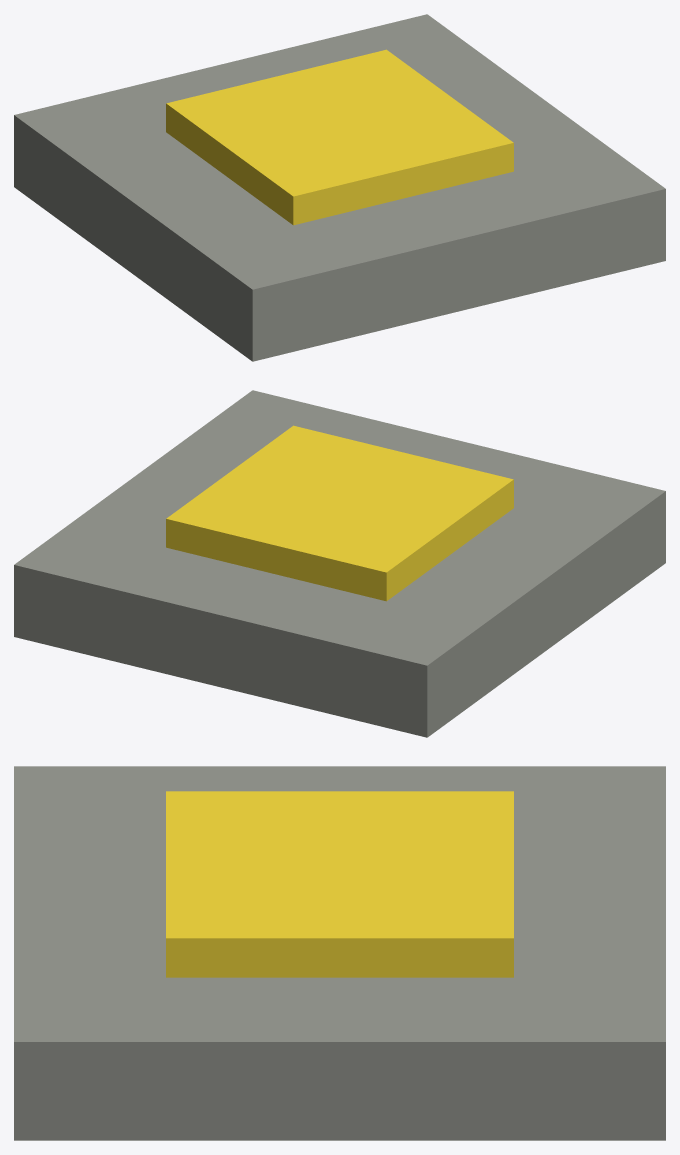
The model's file is crane-base.fbx.
3 renders of one model, top to bottom at view 1: azimuth 30°, elevation 25°; view 2: azimuth 150°, elevation 25°; view 3: azimuth 270°, elevation 25°, orthographic. The views are drawn at different scales.
Parts seen in each view (by area): view 1: Crane_base; view 2: Crane_base; view 3: Crane_base.
Boxes of the visible parts, <box> form: Crane_base: <box>14,14,665,361</box>; Crane_base: <box>14,390,665,737</box>; Crane_base: <box>14,766,665,1140</box>.
Bounding box in the file's own units: 4.5 × 1.05 × 4.5.
